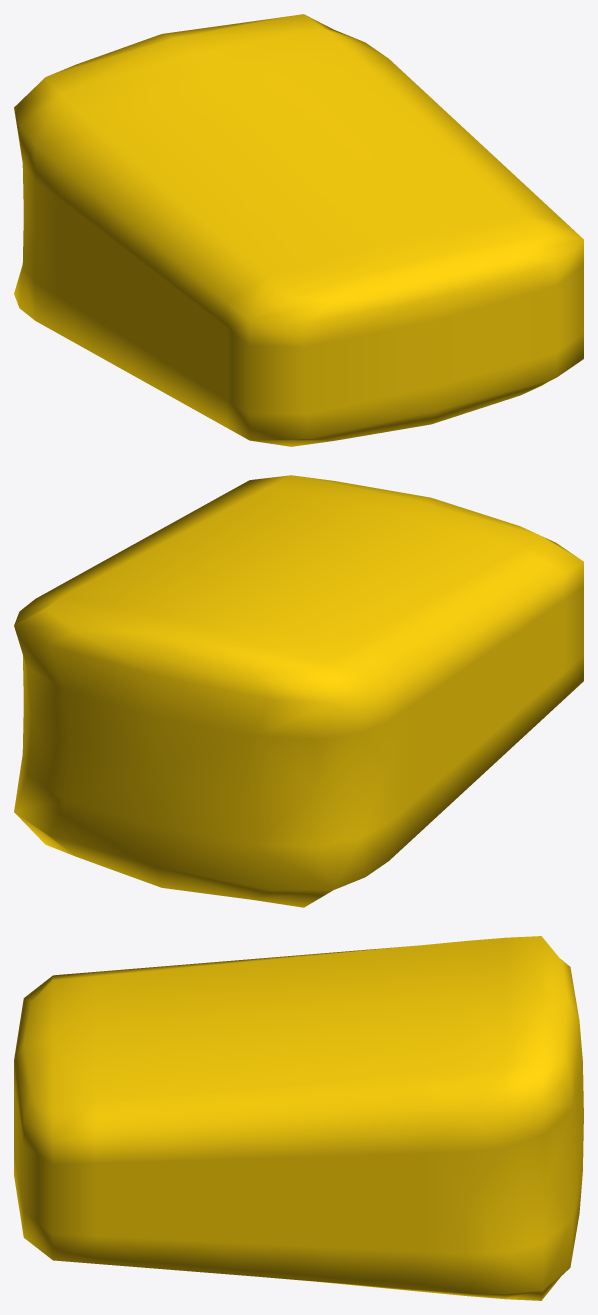
Rendered from Kernel.FBX.
The picture shows the model from 3 angles, top to bottom: view 1: azimuth 30°, elevation 25°; view 2: azimuth 150°, elevation 25°; view 3: azimuth 270°, elevation 25°; orthographic projection.
Visible parts, largest first — view 1: Box001; view 2: Box001; view 3: Box001.
Part boxes in pixels (x1=…): Box001: x1=14, y1=14, x2=583, y2=446; Box001: x1=14, y1=475, x2=583, y2=907; Box001: x1=14, y1=936, x2=583, y2=1300.
Size of the model in its own units: 3.02 by 2.06 by 4.19.
